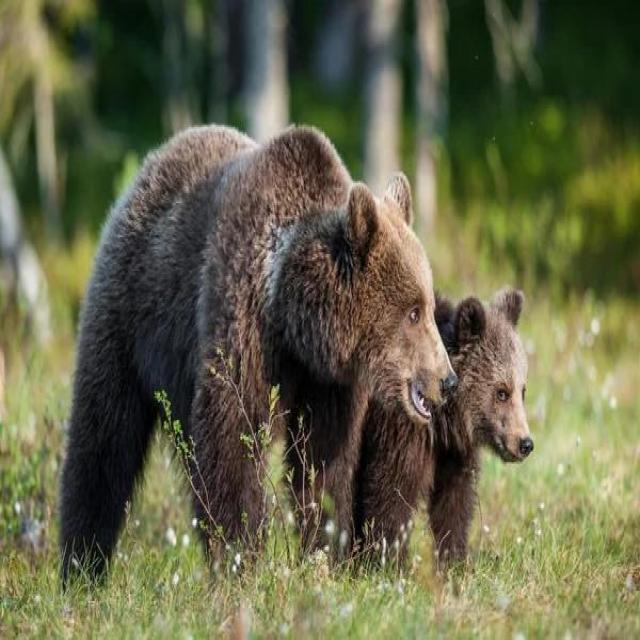Bear: (58, 125, 465, 582), (430, 290, 534, 571)
